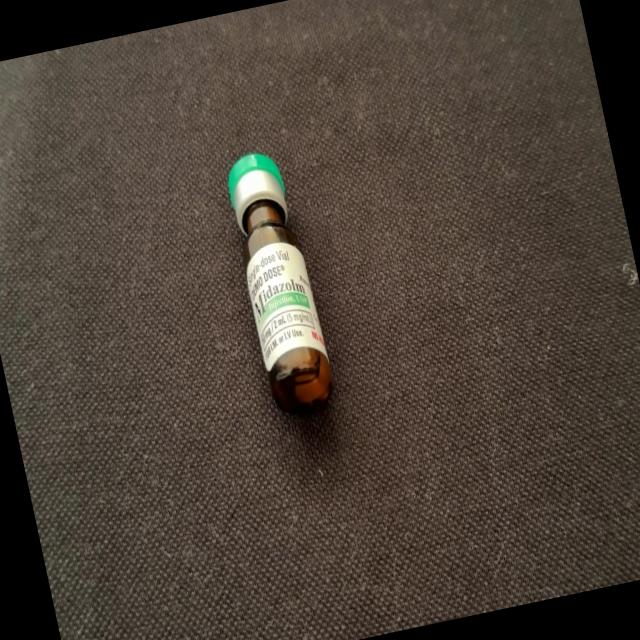midazolm: (222, 151, 337, 414)
